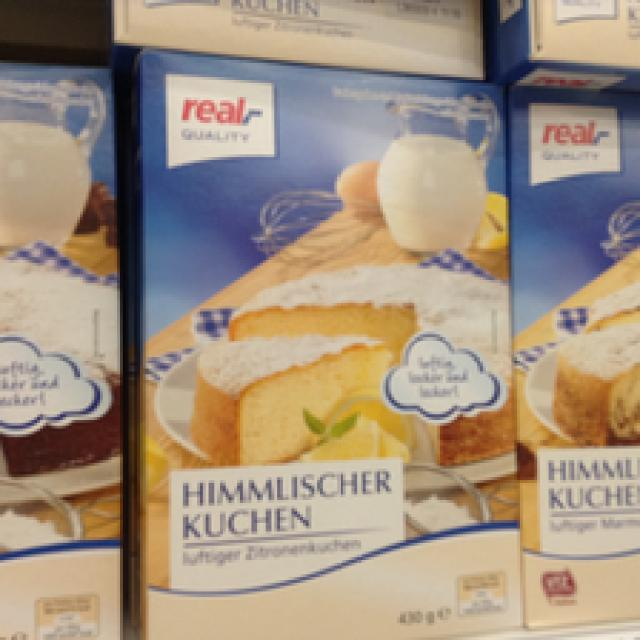groceries: (123, 43, 517, 637), (503, 74, 637, 617)
